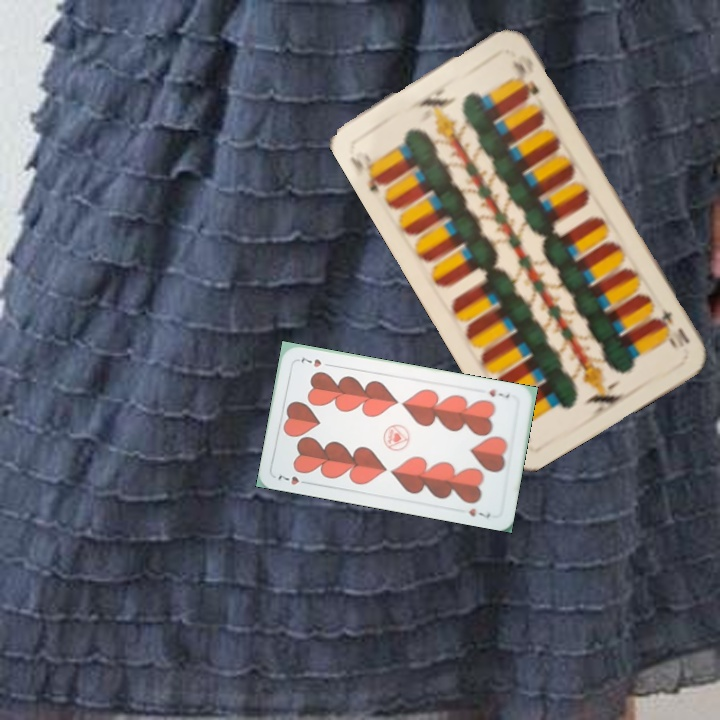E10: (346, 152, 390, 195), (654, 305, 693, 347)
H7: (274, 469, 312, 488), (485, 385, 512, 401)
